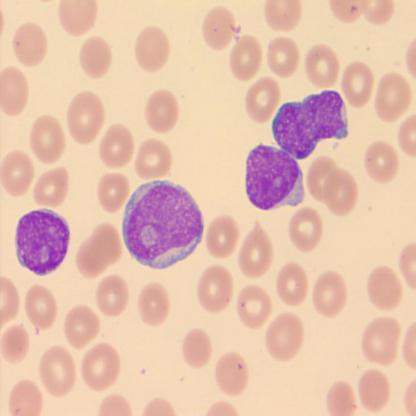Blast: (121, 177, 206, 271), (269, 85, 351, 161), (243, 141, 306, 212), (14, 205, 71, 278)
